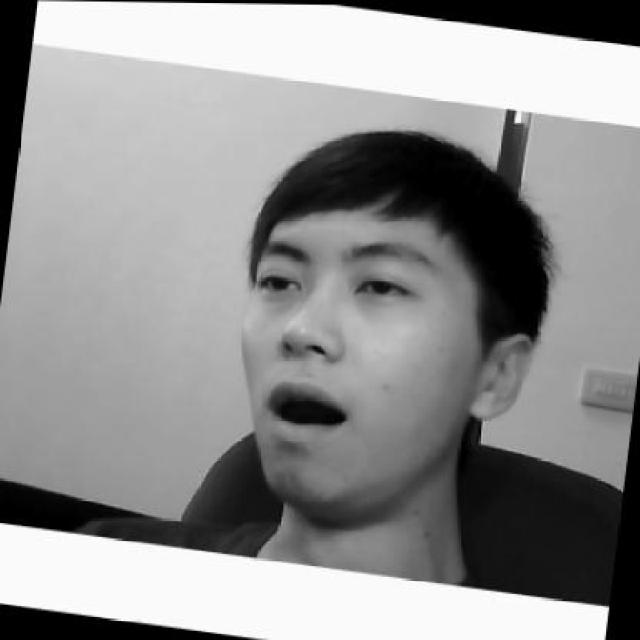inattentif: (214, 107, 551, 585)
